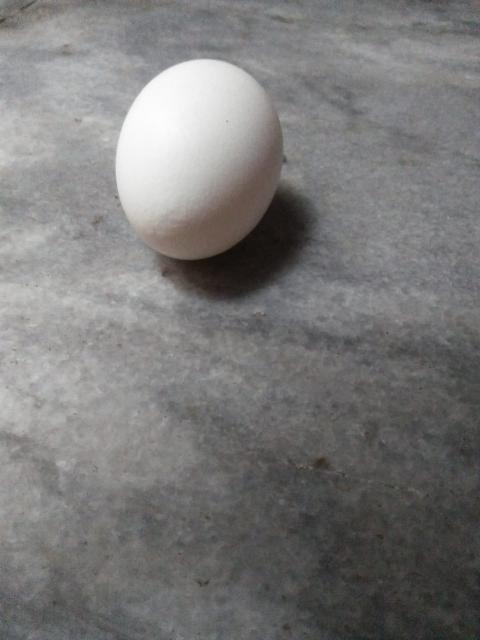Sano: (114, 59, 281, 261)
